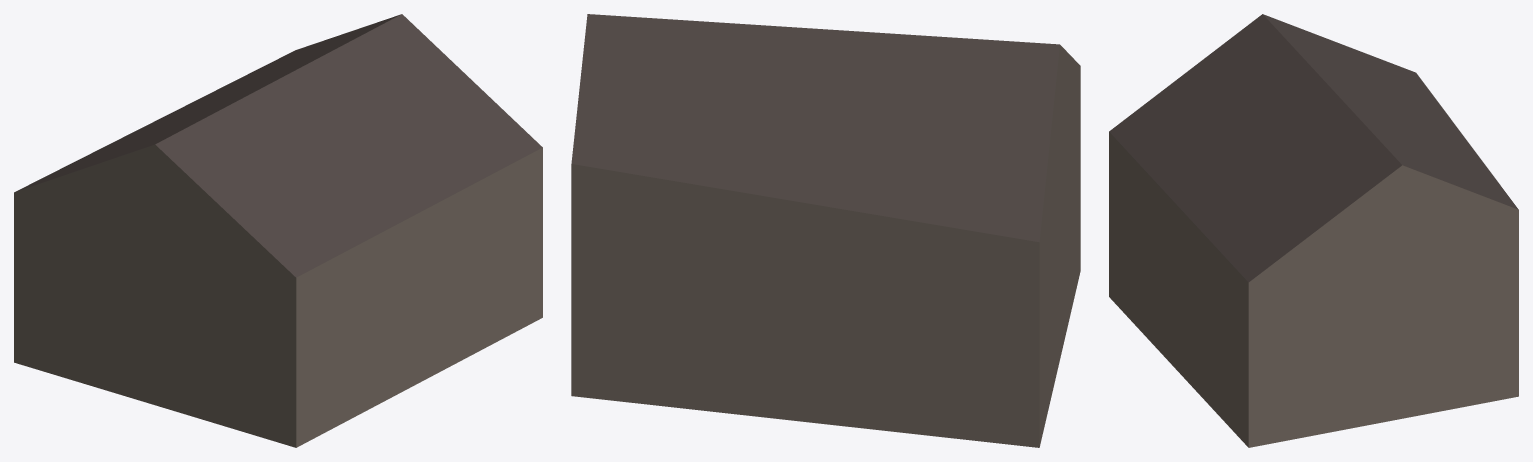
3 renders of one model, left to right at view 1: azimuth 30°, elevation 25°; view 2: azimuth 150°, elevation 25°; view 3: azimuth 270°, elevation 25°, orthographic. The views are drawn at different scales.
Parts seen in each view (by area): view 1: HP-w1512911271; view 2: HP-w1512911271; view 3: HP-w1512911271.
Boxes of the visible parts, bbox=[...] form: HP-w1512911271: bbox=[14, 14, 542, 447]; HP-w1512911271: bbox=[571, 14, 1080, 447]; HP-w1512911271: bbox=[1109, 14, 1518, 447].
Bounding box in the file's own units: 24.5 × 13.79 × 20.21.
